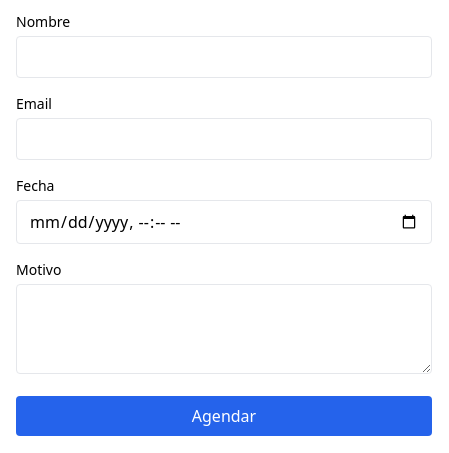
Scenario: BookingForm Component › should disable submit button while loading
Type "John Doe" into the field labelled "Nombre" at (224,57), box [16,36,432,78]
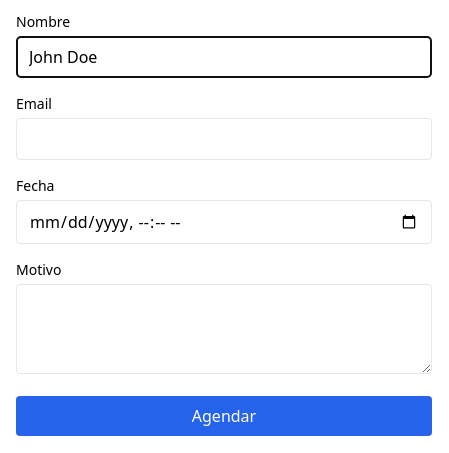
Type "john@example.com" into the field labelled "Email" at (224,139), box [16,118,432,160]
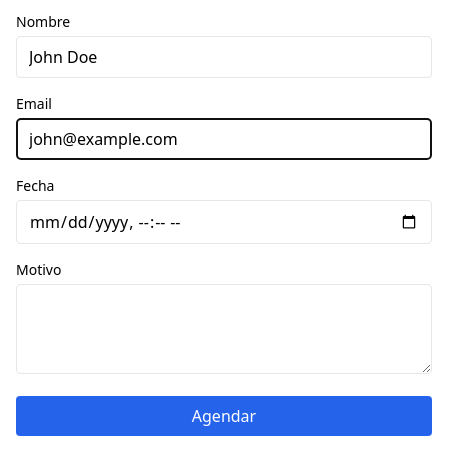
Type "2026-08-20T14:00" into the field labelled "Fecha" at (224,222), box [16,200,432,244]
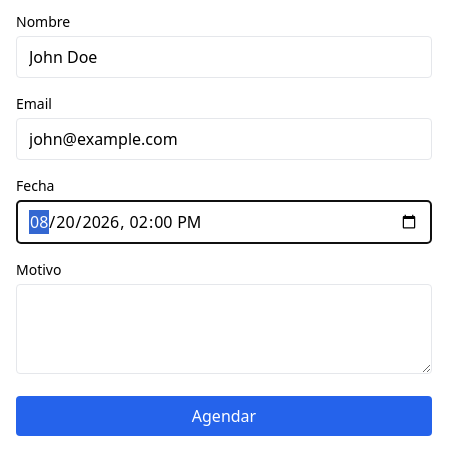
Click the button "Agendar" at (224,416), box [16,396,432,436]
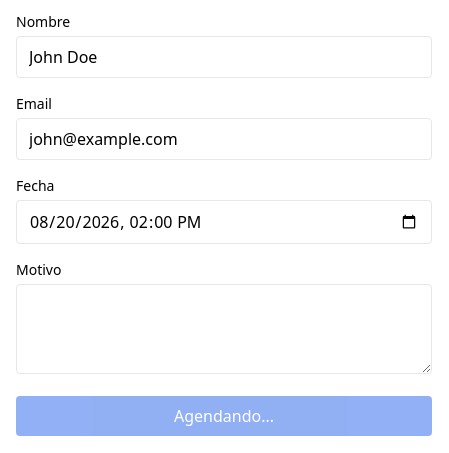
Check: the button named "agendar" is disabled, box [16,396,432,436]
